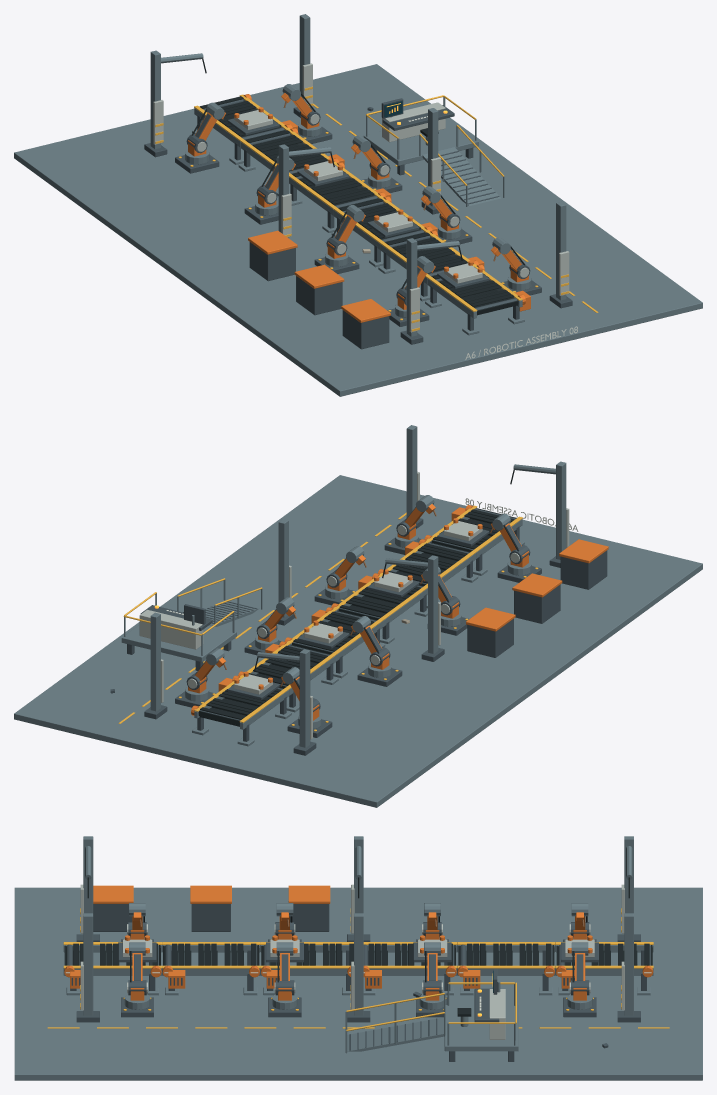
Rendered from robotic_assembly_line_d2.glb.
3 views of the same model, one above another, from view 1: azimuth 30°, elevation 25°; view 2: azimuth 150°, elevation 25°; view 3: azimuth 270°, elevation 25° (orthographic). The views are drawn at different scales.
Parts seen in each view (by area): view 1: Assembly hall deck.002, Operator platform.002, Human access ramp.002, Parts feeder cabinet.006, Parts feeder cabinet.007, Parts feeder cabinet.008, Control cabinet.002, Gantry column.012, Gantry column.016, Feeder lid.007, Feeder lid.008, Feeder lid.006 (+4 smaller); view 2: Assembly hall deck.002, Operator platform.002, Control cabinet.002, Parts feeder cabinet.006, Parts feeder cabinet.008, Parts feeder cabinet.007, Gantry column.016, Gantry column.017, Gantry column.014, Gantry column.012, Gantry column.013, Gantry column.015 (+4 smaller); view 3: Assembly hall deck.002, Operator platform.002, Human access ramp.002, Parts feeder cabinet.007, Gantry column.013, Parts feeder cabinet.008, Gantry column.015, Parts feeder cabinet.006, Gantry column.017, Feeder lid.008, Feeder lid.007, Control cabinet.002 (+14 smaller).
Part boxes in pixels (x1,y1,x2,y2): Assembly hall deck.002: [14, 64, 702, 396]; Operator platform.002: [363, 118, 478, 165]; Human access ramp.002: [422, 147, 500, 205]; Parts feeder cabinet.006: [342, 310, 389, 349]; Parts feeder cabinet.007: [296, 276, 342, 315]; Parts feeder cabinet.008: [249, 242, 295, 281]; Control cabinet.002: [382, 102, 445, 142]; Gantry column.012: [406, 238, 417, 336]; Gantry column.016: [150, 50, 160, 149]; Feeder lid.007: [294, 264, 344, 288]; Feeder lid.008: [248, 230, 297, 254]; Feeder lid.006: [341, 299, 390, 322]; Assembly hall deck.002: [14, 475, 702, 807]; Operator platform.002: [121, 625, 236, 661]; Control cabinet.002: [139, 609, 203, 649]; Parts feeder cabinet.006: [560, 550, 607, 589]; Parts feeder cabinet.008: [467, 619, 513, 657]; Parts feeder cabinet.007: [514, 584, 560, 623]; Gantry column.016: [299, 649, 310, 747]; Gantry column.017: [150, 612, 160, 711]; Gantry column.014: [428, 555, 438, 653]; Gantry column.012: [556, 461, 566, 559]; Gantry column.013: [406, 425, 417, 517]; Gantry column.015: [278, 519, 288, 617]; Assembly hall deck.002: [14, 887, 702, 1080]; Operator platform.002: [444, 1005, 518, 1051]; Human access ramp.002: [347, 1017, 444, 1051]; Parts feeder cabinet.007: [191, 904, 230, 931]; Gantry column.013: [83, 913, 93, 1015]; Parts feeder cabinet.008: [290, 904, 329, 931]; Gantry column.015: [354, 913, 363, 1015]; Parts feeder cabinet.006: [93, 904, 132, 931]; Gantry column.017: [624, 913, 633, 1015]; Feeder lid.008: [288, 885, 330, 903]; Feeder lid.007: [190, 885, 231, 903]; Control cabinet.002: [489, 989, 505, 1039].
Size of the model in its own units: 18 by 4.98 by 28.02.
